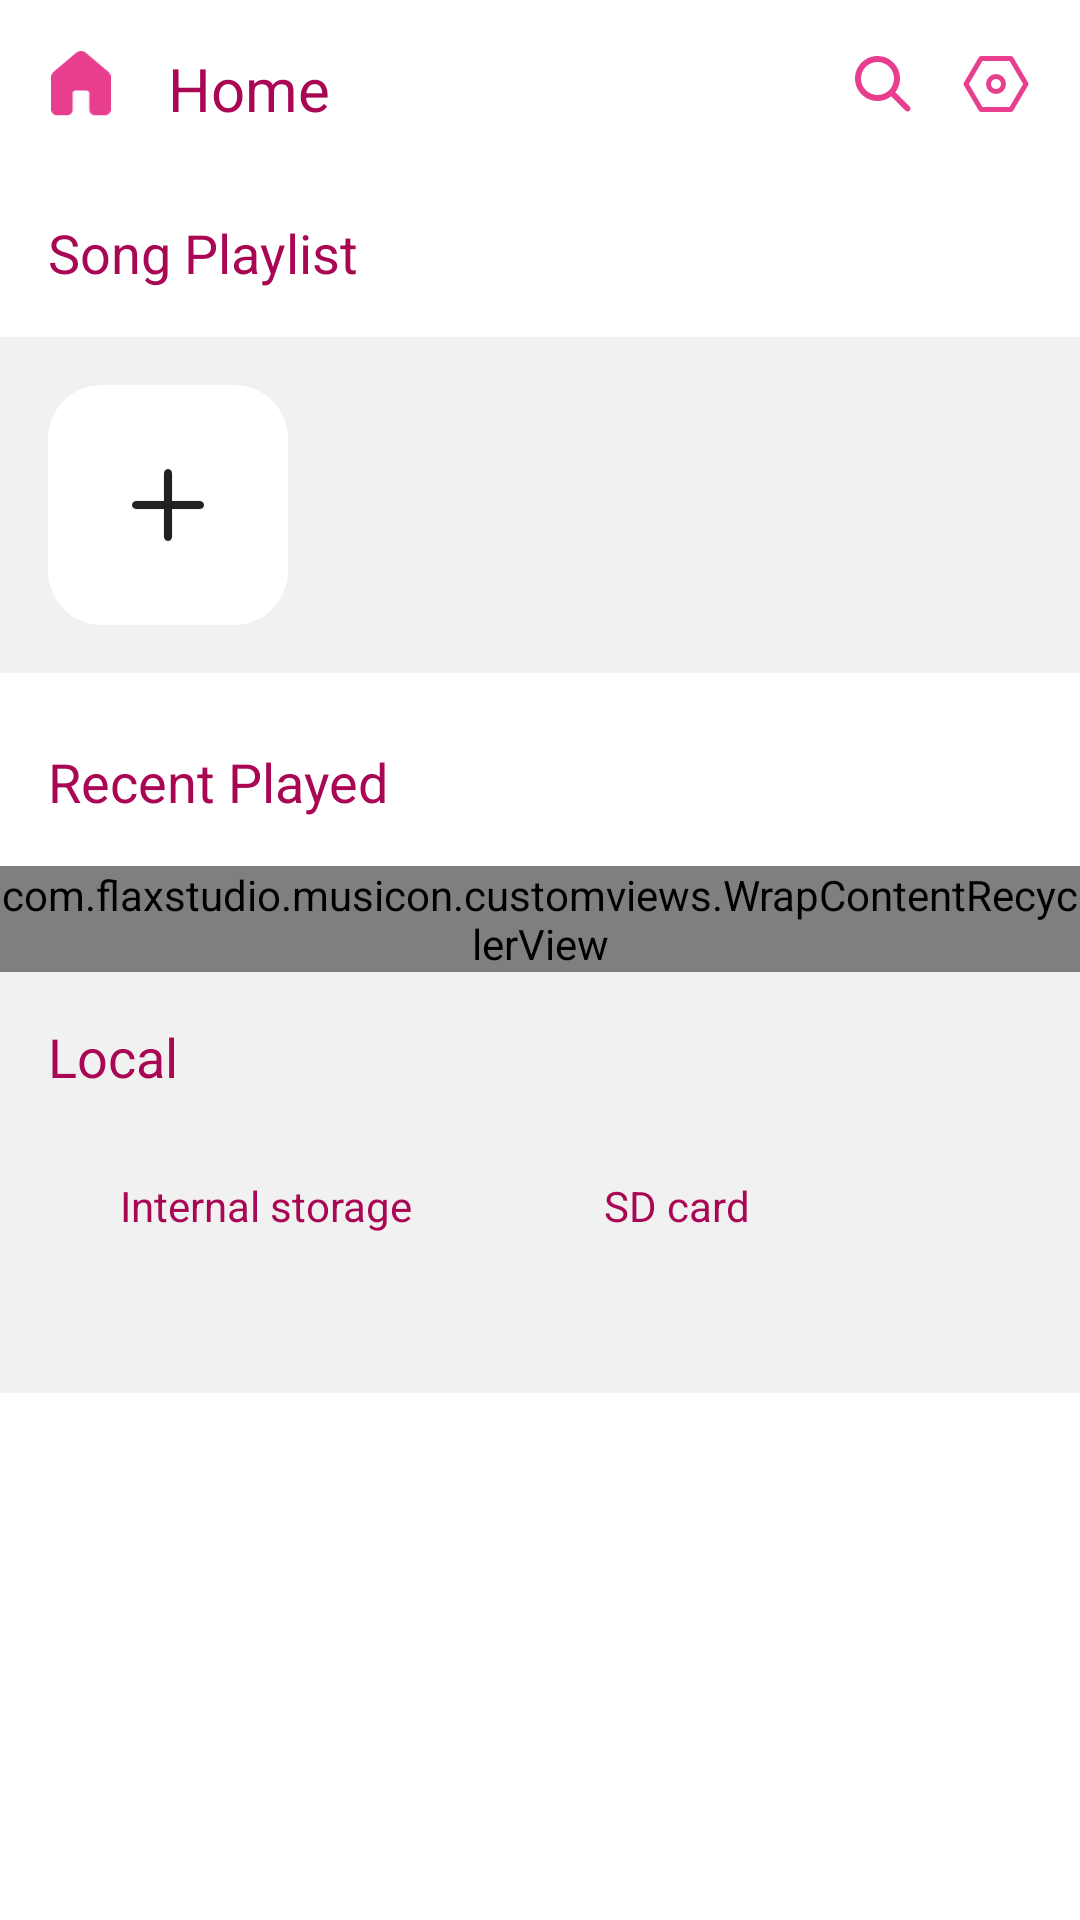

Screen size 1080×1920. Icon name, then its center in pixels as (x=x, y=y):
add: (x=168, y=505)
search: (x=883, y=84)
setting: (x=996, y=84)
